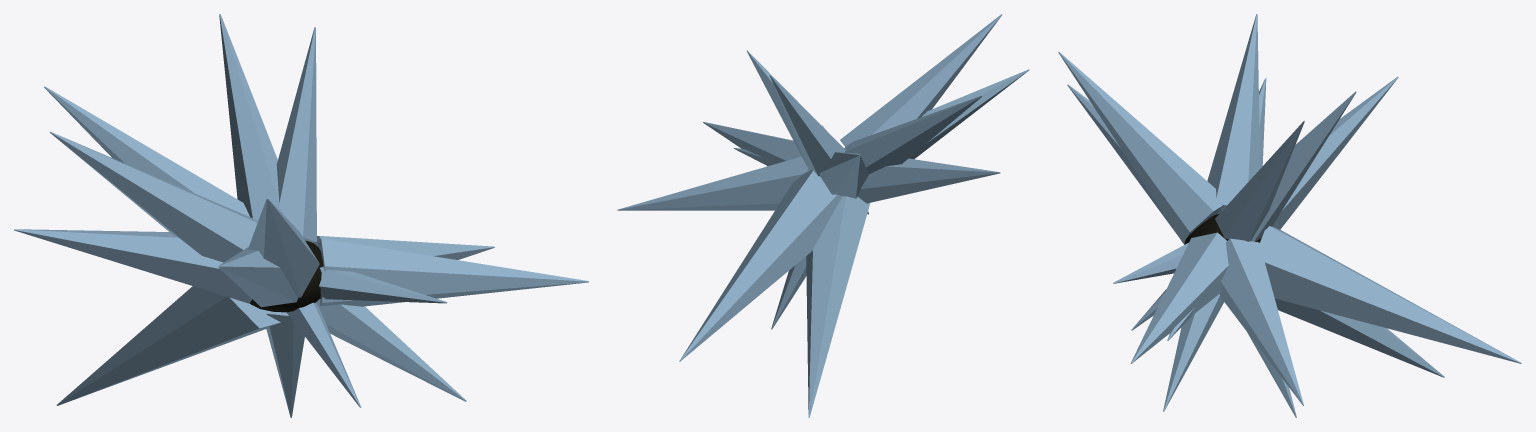
Rendered from eiszapfen.obj.
The picture shows the model from 3 angles, left to right: view 1: azimuth 30°, elevation 25°; view 2: azimuth 150°, elevation 25°; view 3: azimuth 270°, elevation 25°; orthographic projection. The views are drawn at different scales.
Visible parts, largest first — view 1: Eiszapfen; view 2: Eiszapfen; view 3: Eiszapfen.
Boxes of the visible parts, x1,y1,x2,y2 form: Eiszapfen: (14, 14, 588, 417); Eiszapfen: (617, 14, 1029, 417); Eiszapfen: (1058, 14, 1521, 417).
Bounding box in the file's own units: 39.78 × 30.61 × 39.07.
